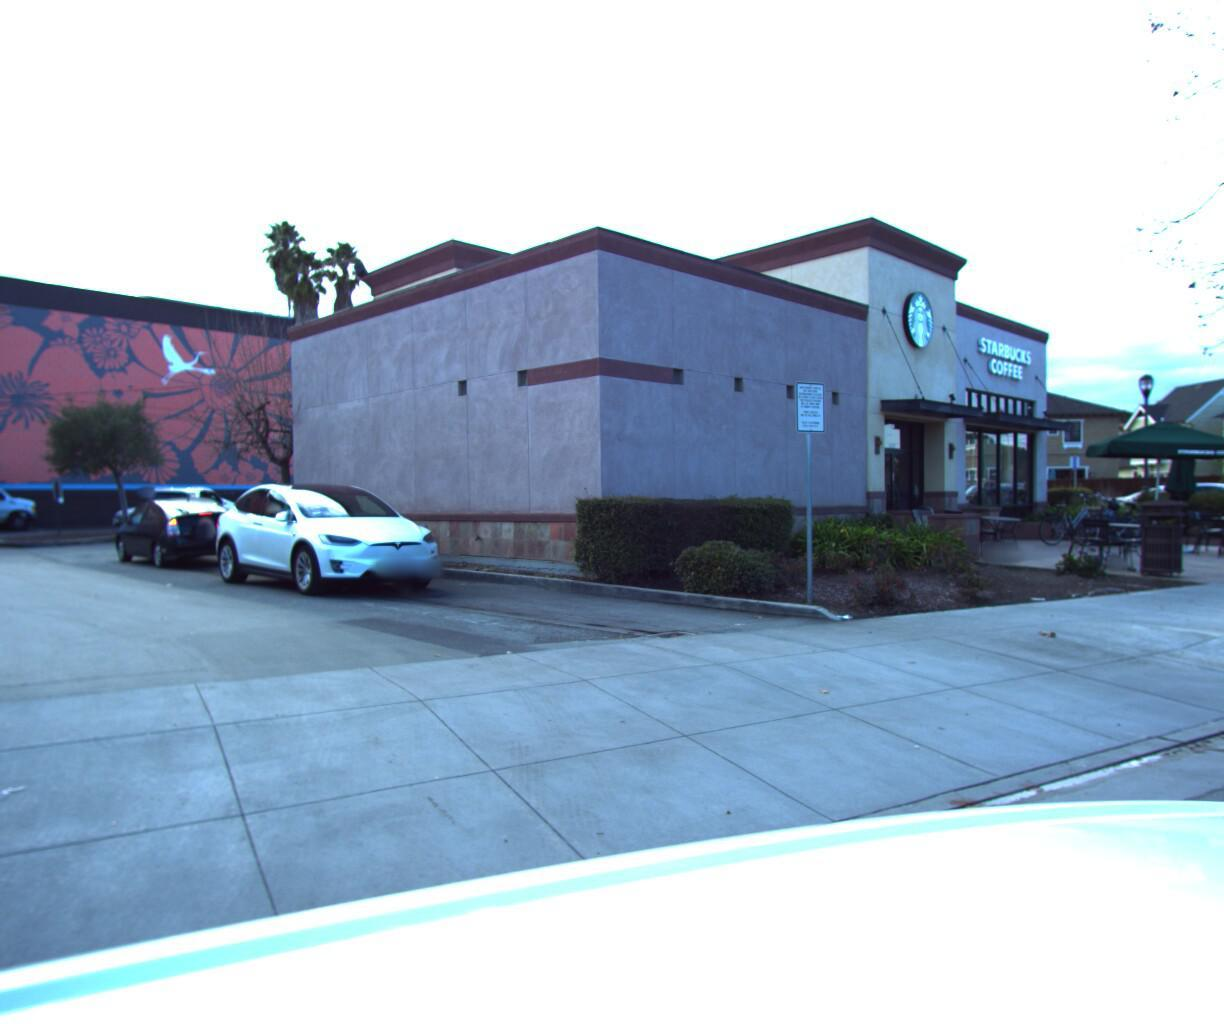bicycle: (1058, 486, 1168, 544), (1025, 485, 1116, 544), (1081, 490, 1172, 542)
car: (195, 474, 460, 606), (1148, 474, 1224, 521)
